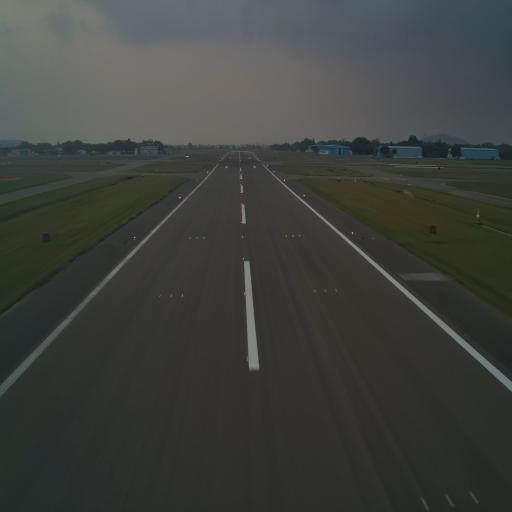on: (246, 354, 250, 364), (334, 286, 339, 294), (351, 230, 355, 237), (323, 287, 327, 294), (313, 286, 316, 295), (158, 293, 162, 299), (169, 292, 173, 298), (243, 290, 246, 298), (133, 235, 137, 240), (242, 256, 245, 261), (196, 236, 199, 241), (181, 293, 183, 299), (298, 233, 301, 237), (203, 235, 205, 240), (189, 236, 191, 240), (285, 234, 287, 238), (292, 234, 294, 238), (242, 235, 243, 239)
